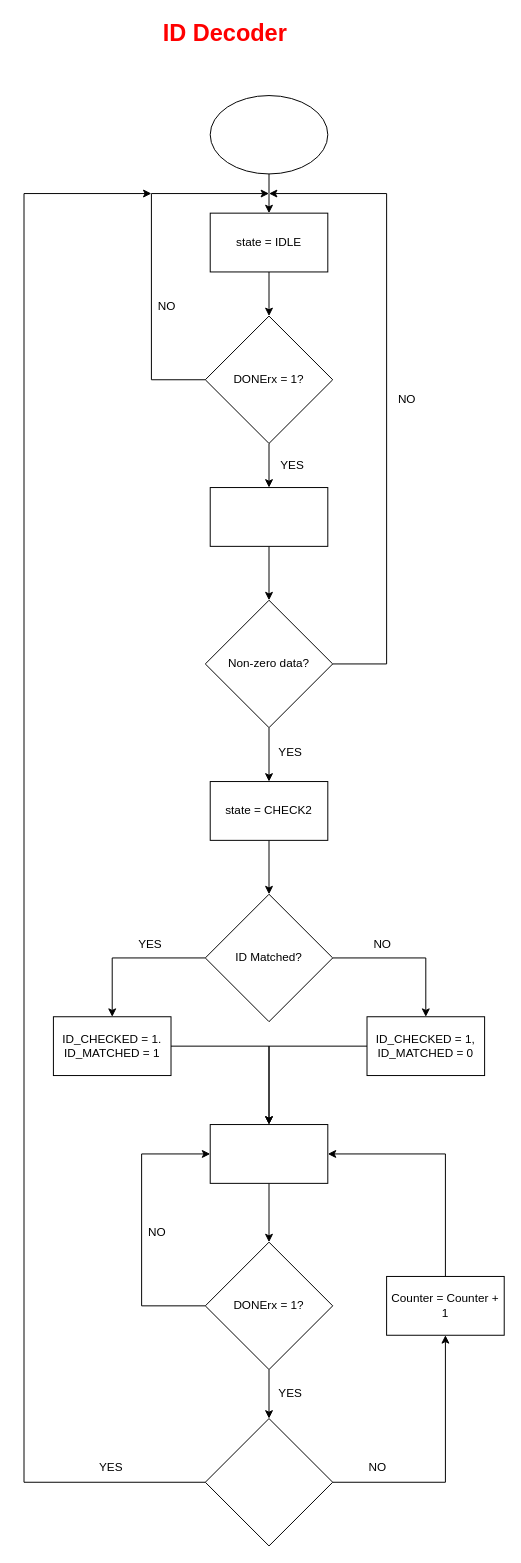
Some shapes in this 521 by 1563 pixel diagram are drawn without their labels. The shapes that lost their labels are listed below. From the top down, each one's centre as x and y in pixels, then its label:
At pixel 268 134: "Start".
At pixel 268 516: "state = CHECK1".
At pixel 268 1153: "state = COUNT".
At pixel 268 1482: "Counter = 5?".
